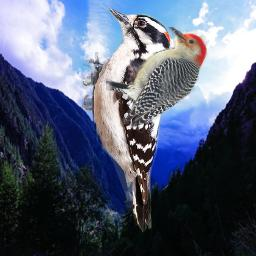Woodpecker: (82, 7, 173, 235), (106, 27, 207, 128)
